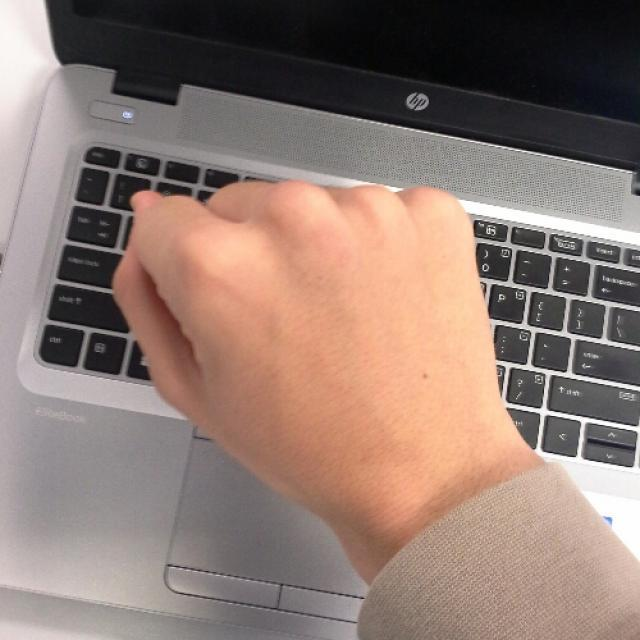rock: (123, 178, 502, 473)
